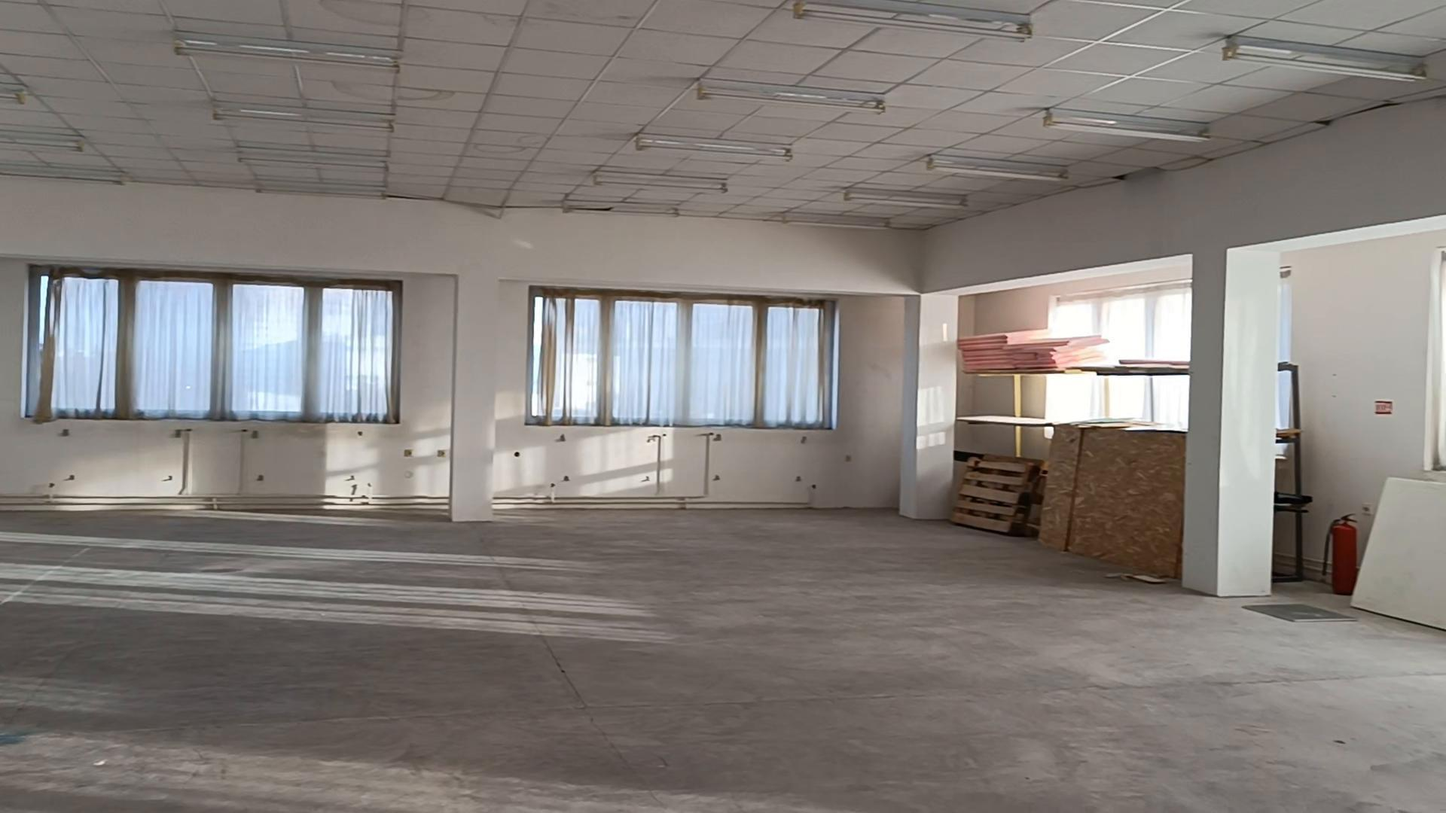ceiling: (0, 0, 1445, 228)
floor: (0, 511, 1445, 812)
